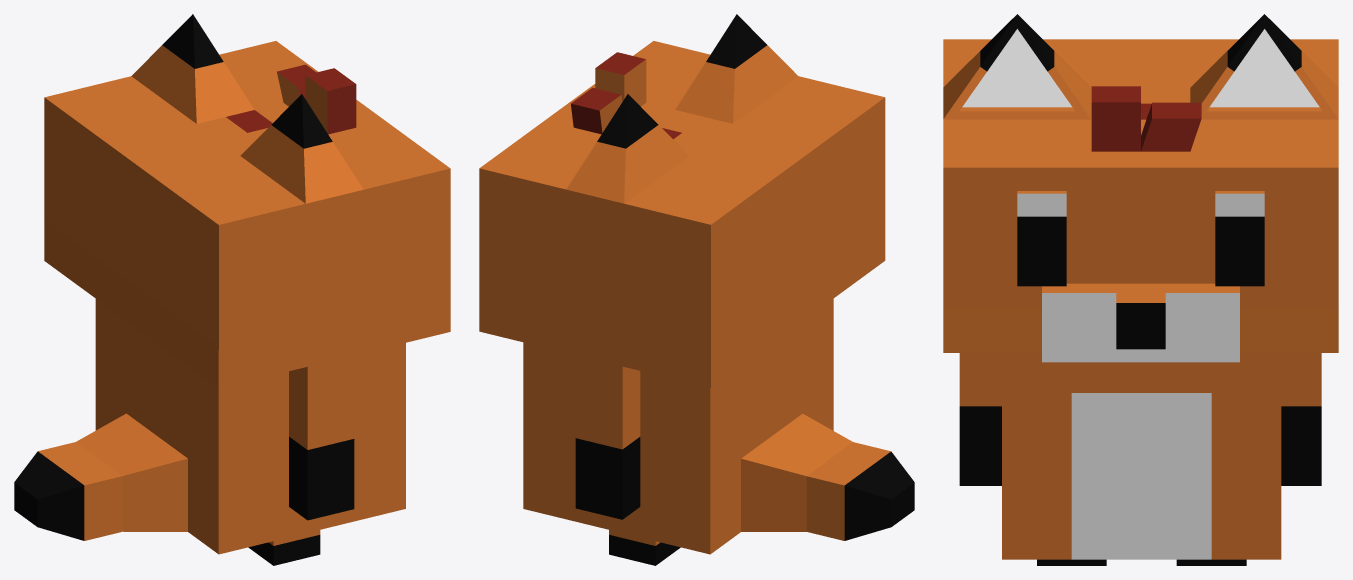
The picture shows the model from 3 angles, left to right: view 1: azimuth 30°, elevation 25°; view 2: azimuth 150°, elevation 25°; view 3: azimuth 270°, elevation 25°; orthographic projection. The views are drawn at different scales.
Parts seen in each view (by area): view 1: Cube.009; view 2: Cube.009; view 3: Cube.009.
Boxes of the visible parts, x1=… form: Cube.009: x1=14, y1=14, x2=450, y2=565; Cube.009: x1=479, y1=14, x2=914, y2=565; Cube.009: x1=943, y1=14, x2=1338, y2=565.
Bounding box in the file's own units: 322 × 391 × 261.
